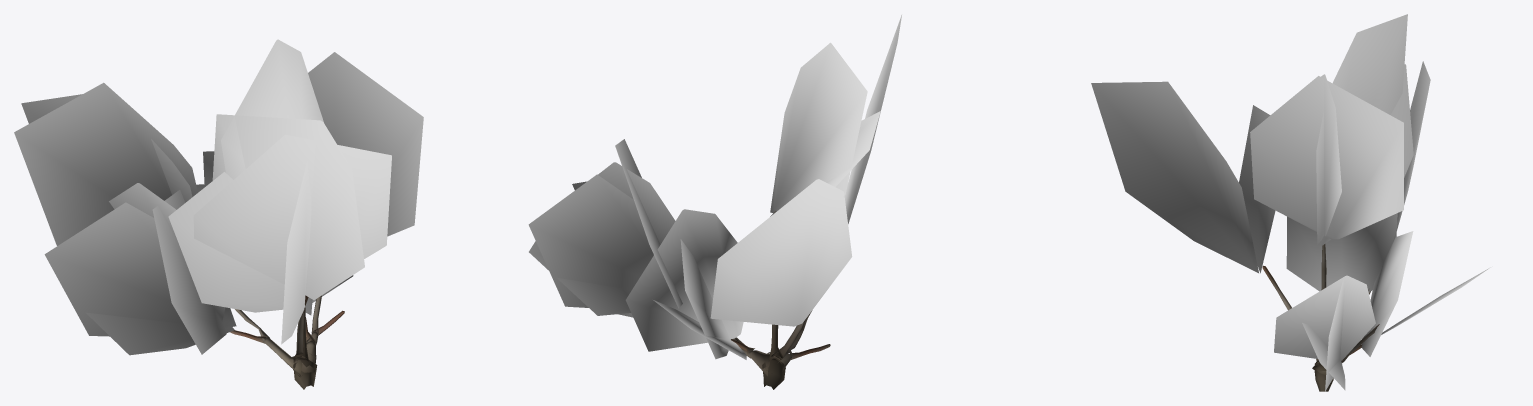
Rendered from shoot_tree_2.glb.
The picture shows the model from 3 angles, left to right: view 1: azimuth 30°, elevation 25°; view 2: azimuth 150°, elevation 25°; view 3: azimuth 270°, elevation 25°; orthographic projection. The views are drawn at different scales.
Parts seen in each view (by area): view 1: shoot_tree_2; view 2: shoot_tree_2; view 3: shoot_tree_2.
Boxes of the visible parts, x1,y1,x2,y2 form: shoot_tree_2: [14, 39, 423, 389]; shoot_tree_2: [528, 15, 901, 389]; shoot_tree_2: [1091, 14, 1490, 391].
Bounding box in the file's own units: 5.75 × 4.84 × 5.75.
